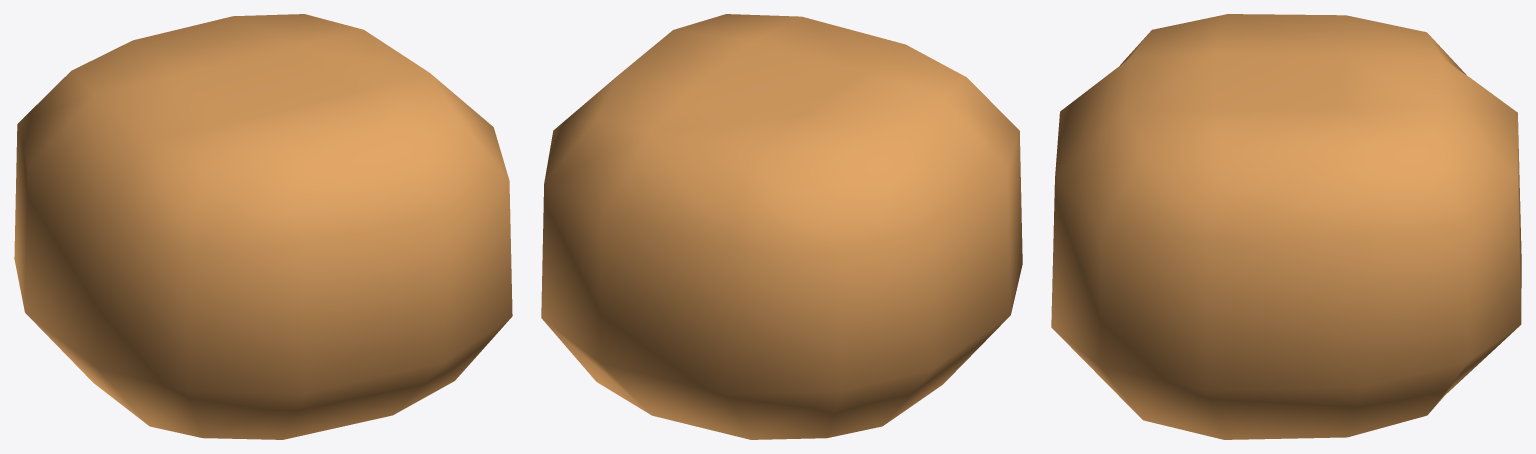
File: Bush_F_01_LOD2.gltf
The picture shows the model from 3 angles, left to right: view 1: azimuth 30°, elevation 25°; view 2: azimuth 150°, elevation 25°; view 3: azimuth 270°, elevation 25°; orthographic projection. The views are drawn at different scales.
Visible parts, largest first — view 1: Bush_F_01_LOD2_Cube.726; view 2: Bush_F_01_LOD2_Cube.726; view 3: Bush_F_01_LOD2_Cube.726.
Part boxes in pixels (<box>): Bush_F_01_LOD2_Cube.726: <box>14,14,512,439</box>; Bush_F_01_LOD2_Cube.726: <box>541,14,1022,439</box>; Bush_F_01_LOD2_Cube.726: <box>1051,14,1521,439</box>.
Bounding box in the file's own units: 4.26 × 3.23 × 4.33.
1 material, 1 textured.
